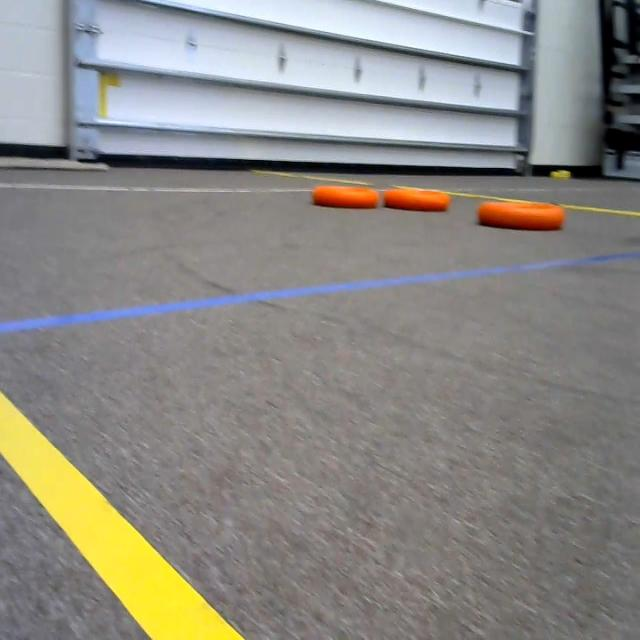note: (469, 194, 576, 240), (306, 170, 378, 220), (383, 177, 462, 221)
